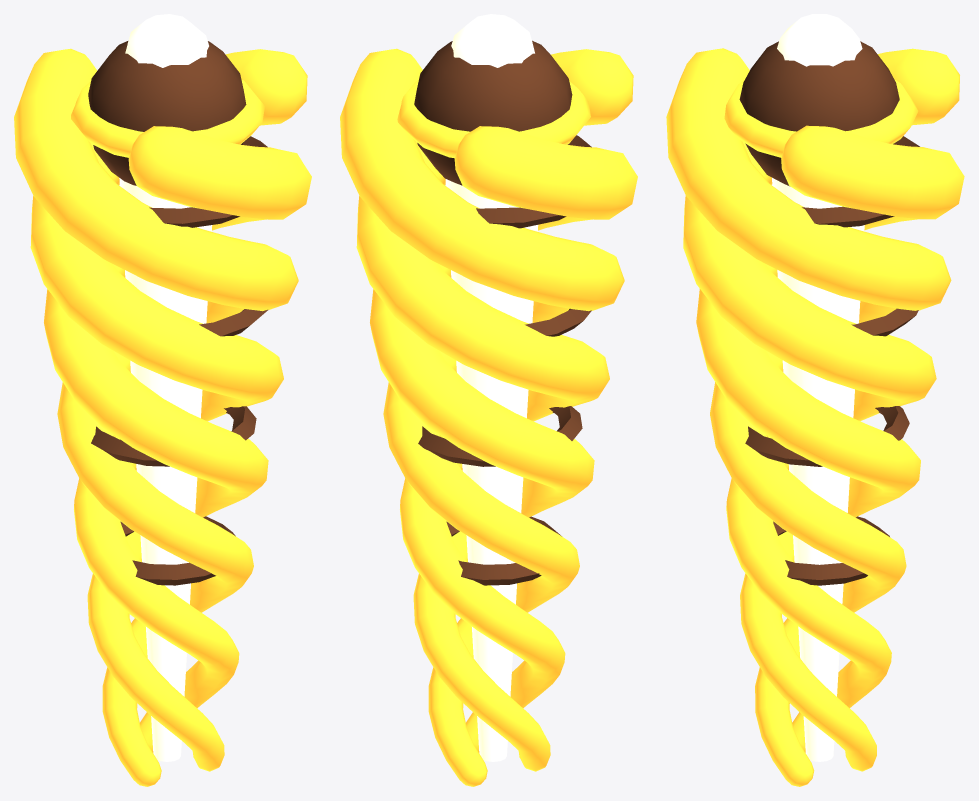
File: bomb_rolling.glb
3 views of the same model, side by side, from view 1: azimuth 30°, elevation 25°; view 2: azimuth 150°, elevation 25°; view 3: azimuth 270°, elevation 25° (orthographic).
Parts seen in each view (by area): view 1: bomb_rolling; view 2: bomb_rolling; view 3: bomb_rolling.
Boxes of the visible parts, x1,y1,x2,y2 form: bomb_rolling: [14, 14, 311, 786]; bomb_rolling: [340, 14, 637, 786]; bomb_rolling: [666, 14, 964, 786].
Bounding box in the file's own units: 0.1334 × 0.3617 × 0.1299.
